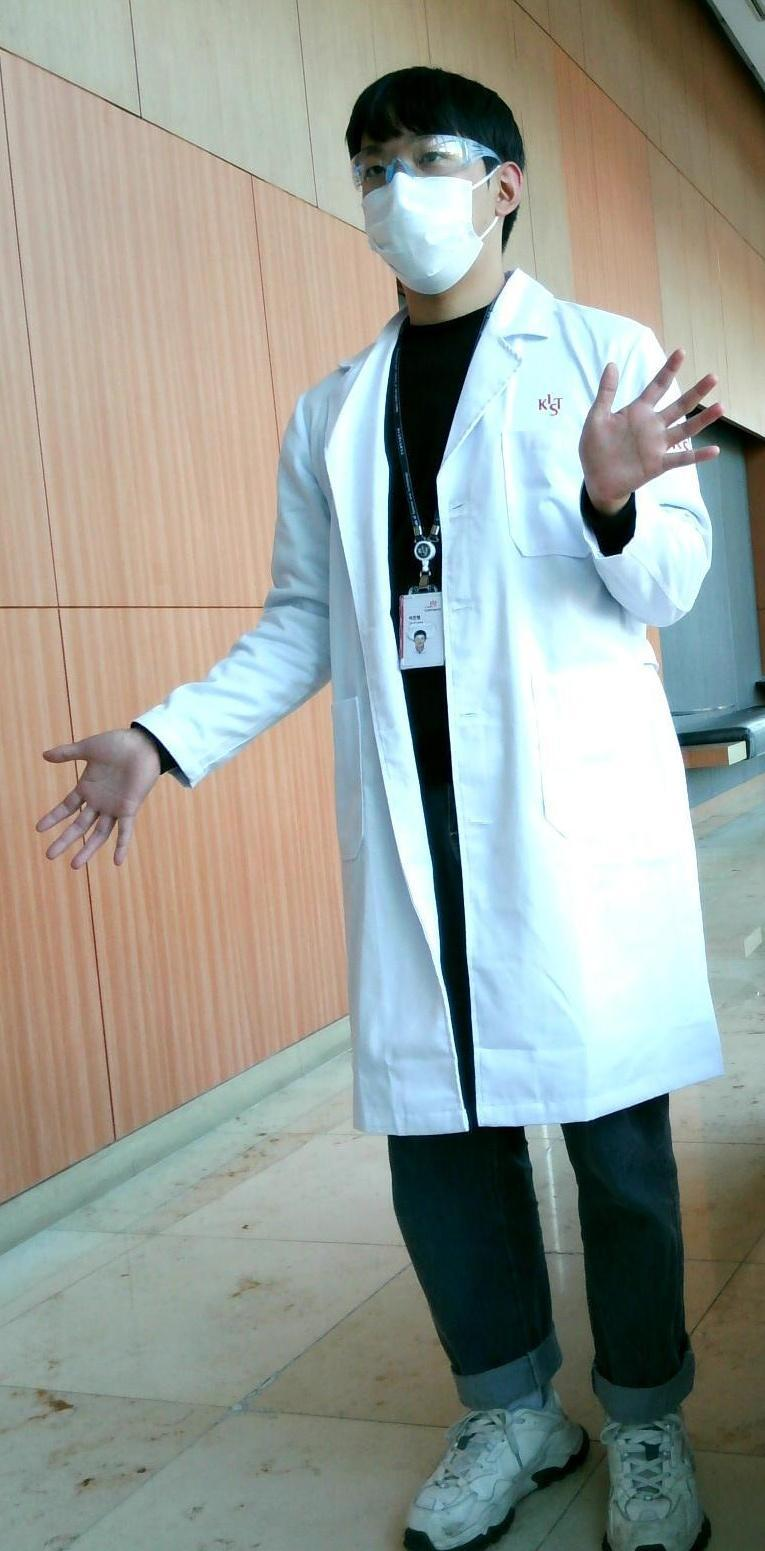lab_coat: (278, 307, 584, 1102)
